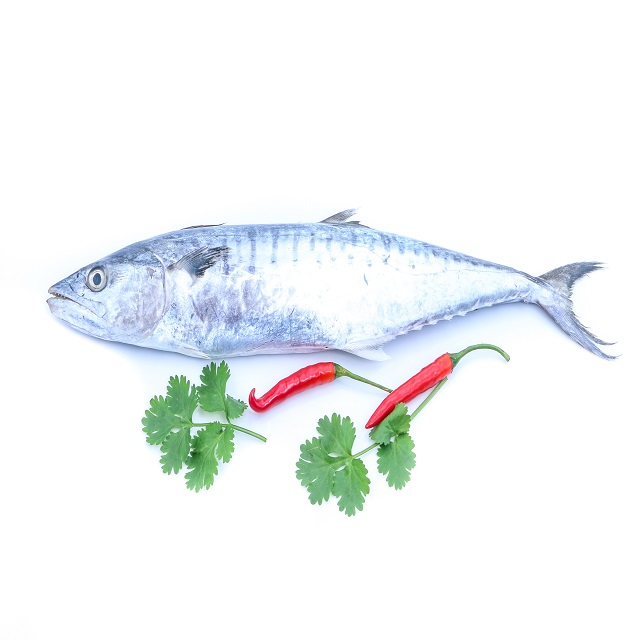Surmai: (40, 209, 622, 368)
